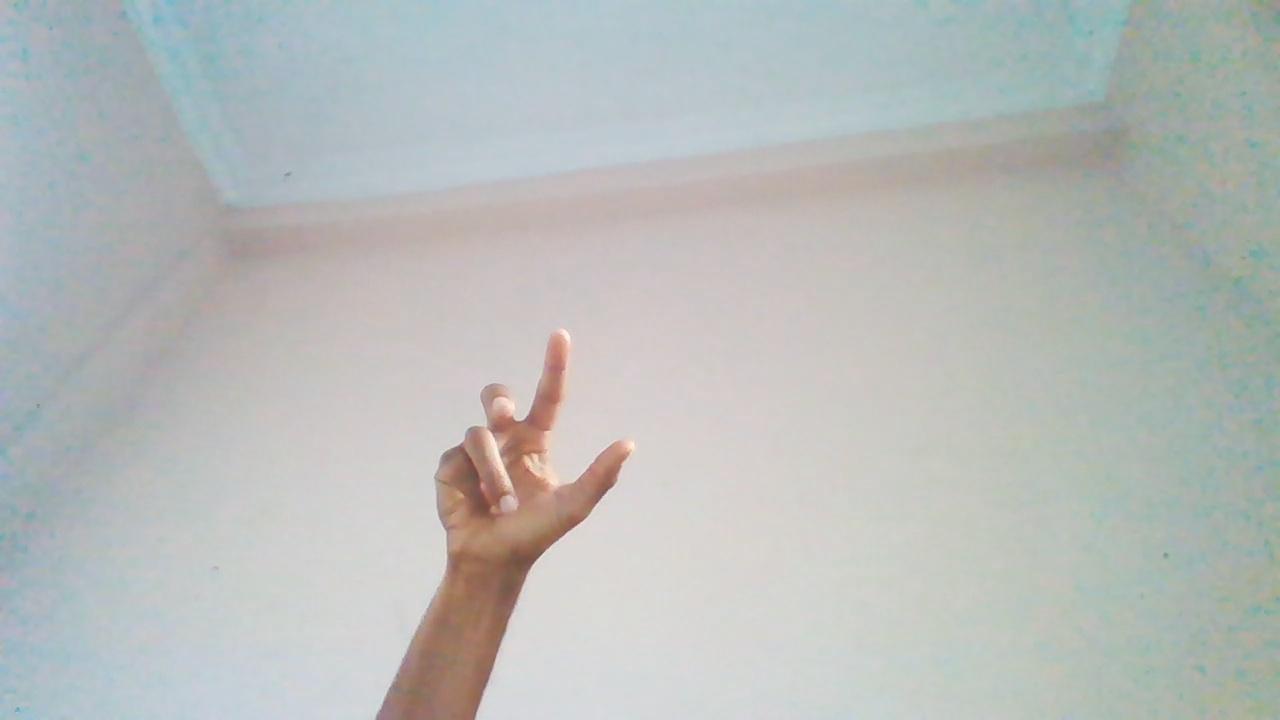hhe: (434, 327, 639, 639)
